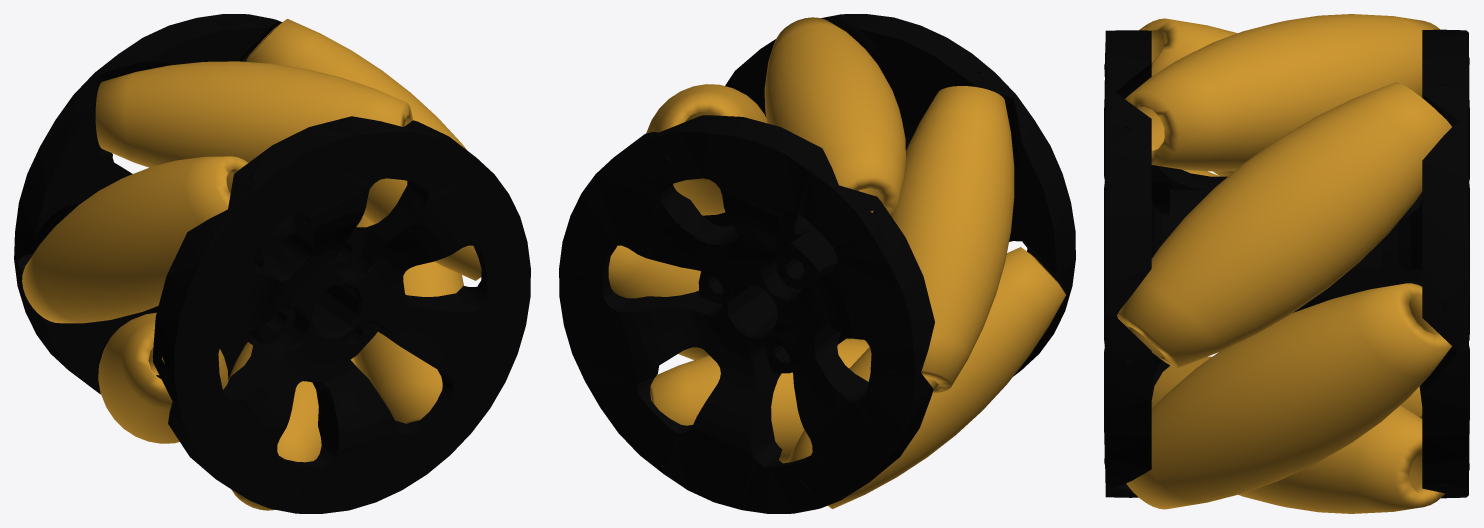
File: front-right_wheel.dae
The picture shows the model from 3 angles, left to right: view 1: azimuth 30°, elevation 25°; view 2: azimuth 150°, elevation 25°; view 3: azimuth 270°, elevation 25°; orthographic projection. The views are drawn at different scales.
Visible parts, largest first — view 1: front-right_wheel; view 2: front-right_wheel; view 3: front-right_wheel.
Boxes of the visible parts, x1,y1,x2,y2 form: front-right_wheel: (14,14,530,513); front-right_wheel: (559,14,1075,513); front-right_wheel: (1104,14,1469,513).
Size of the model in its own units: 0.0999 by 0.0731 by 0.0997.
